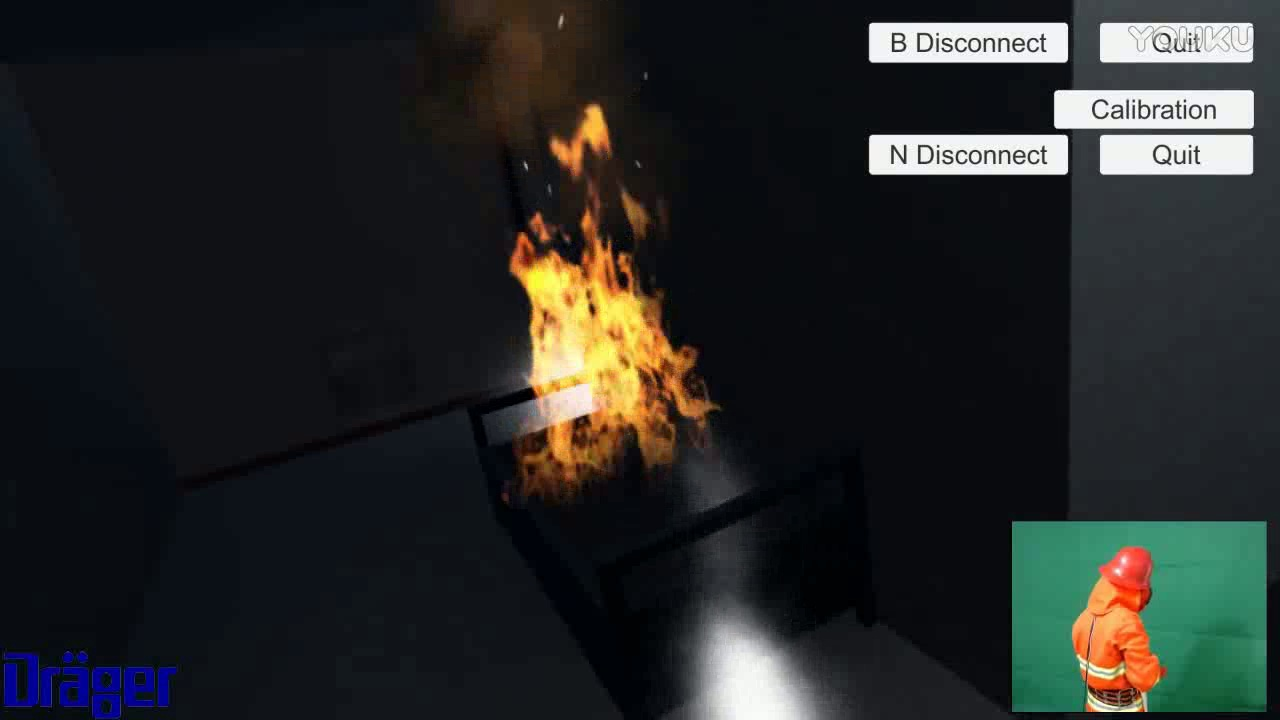fire: (513, 105, 720, 493)
